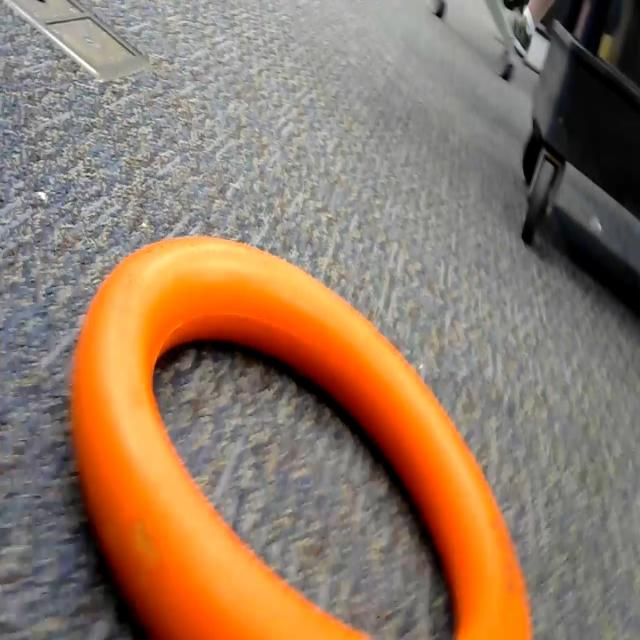note: (64, 226, 543, 640)
